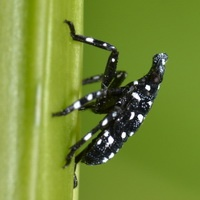insect: (52, 20, 167, 166)
